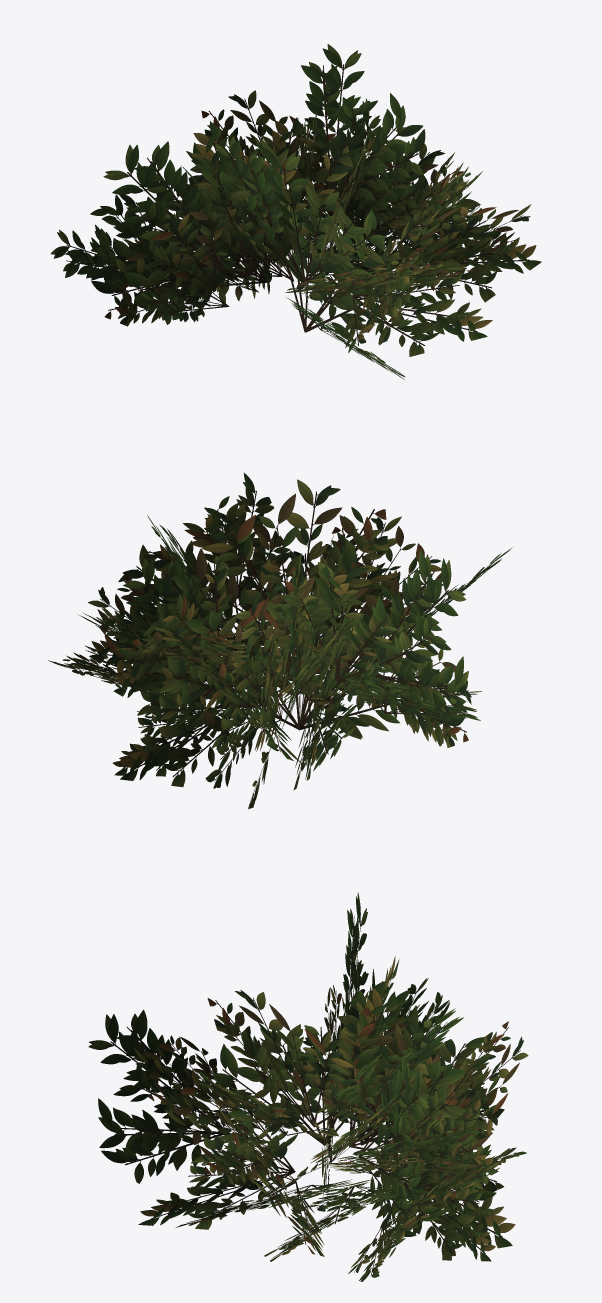
Rendered from Bush_Medium.fbx.
3 renders of one model, top to bottom at view 1: azimuth 30°, elevation 25°; view 2: azimuth 150°, elevation 25°; view 3: azimuth 270°, elevation 25°, orthographic. The views are drawn at different scales.
Visible parts, largest first — view 1: Bush_Medium; view 2: Bush_Medium; view 3: Bush_Medium.
Part boxes in pixels (<box>): Bush_Medium: <box>51,44,541,379</box>; Bush_Medium: <box>48,473,512,809</box>; Bush_Medium: <box>88,892,528,1281</box>.
Bounding box in the file's own units: 2.61 × 1.53 × 2.43.
